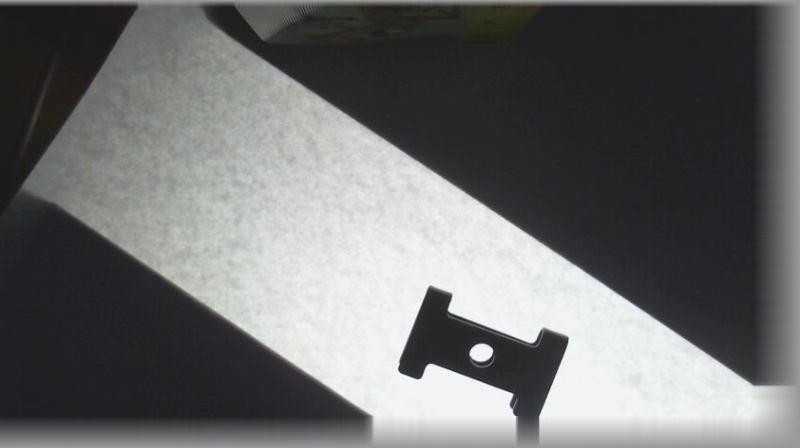O002: (395, 284, 564, 416)
